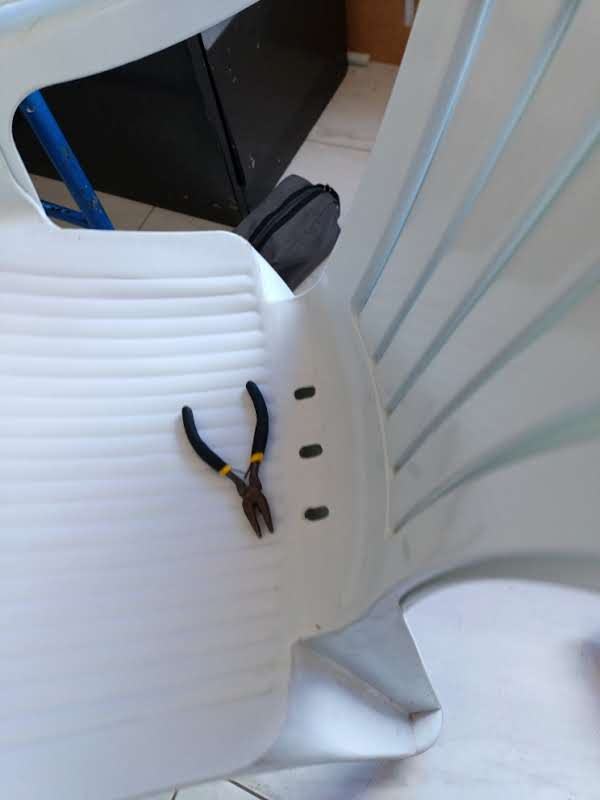Pinzas: (183, 381, 273, 536)
